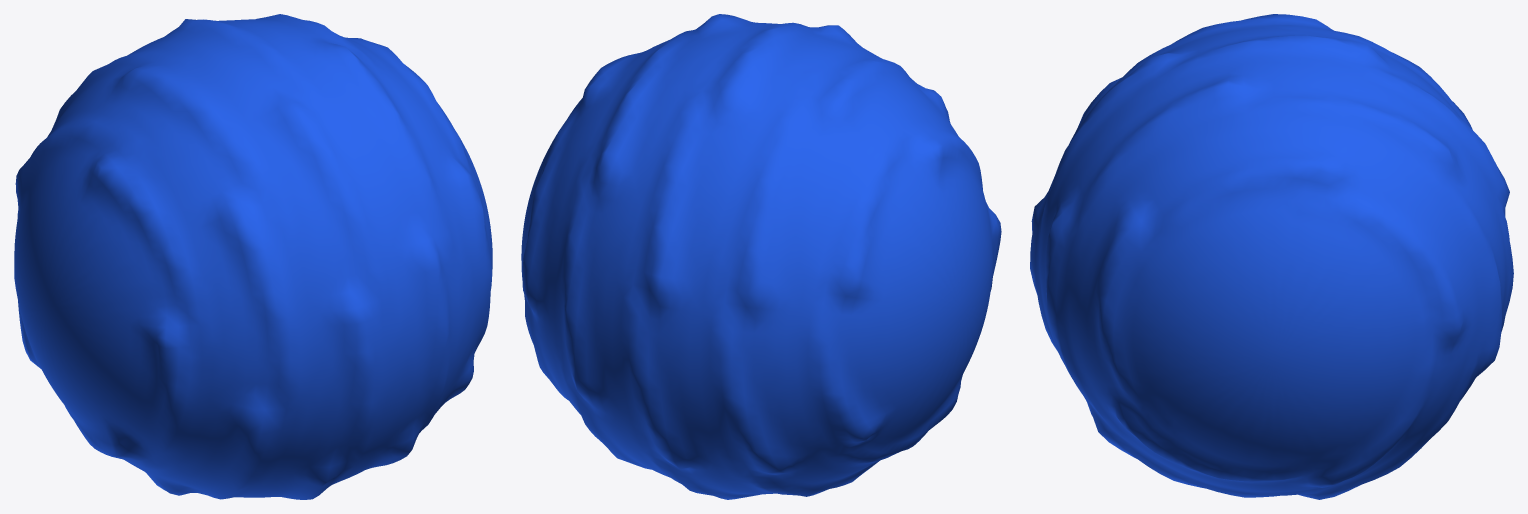
Rendered from EV_SpinBall.fbx.
3 views of the same model, side by side, from view 1: azimuth 30°, elevation 25°; view 2: azimuth 150°, elevation 25°; view 3: azimuth 270°, elevation 25° (orthographic). The views are drawn at different scales.
Visible parts, largest first — view 1: EV_SpinBall; view 2: EV_SpinBall; view 3: EV_SpinBall.
Boxes of the visible parts, left/top/right/bottom form: EV_SpinBall: left=14, top=14, right=492, bottom=499; EV_SpinBall: left=521, top=14, right=1001, bottom=499; EV_SpinBall: left=1030, top=14, right=1513, bottom=499.
Bounding box in the file's own units: 6.1 × 6.33 × 6.29.
